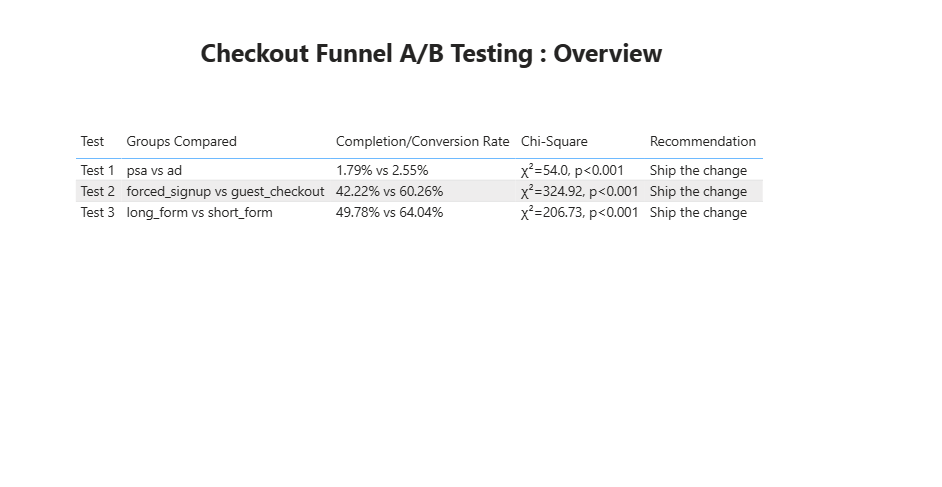

This screenshot's page, from the dashboard's own definition file:
{"tool":"powerbi","page":{"name":"Overview","canvas":[1280,720],"ordinal":3},"visuals":[{"type":"tableEx","fields":{"Values":["Summary.Test","Summary.Groups Compared","Summary.Completion/Conversion Rate","Summary.Chi-Square","Summary.Recommendation"]},"box":[226.4,177,907,366.4],"z":0},{"type":"textbox","box":[349.9,85.1,544.8,67.2],"z":1000}]}

Visuals, with their boxes on the page's 1280x720 design canvas (x1, y1, x2, y2). These are canvas units, not pixel positions in the 942x487 screenshot, which may show the page scaled, cropped or inside an application window:
tableEx - Summary.Test x Summary.Groups Compared: locate(226, 177, 1133, 543)
textbox: locate(350, 85, 895, 152)
